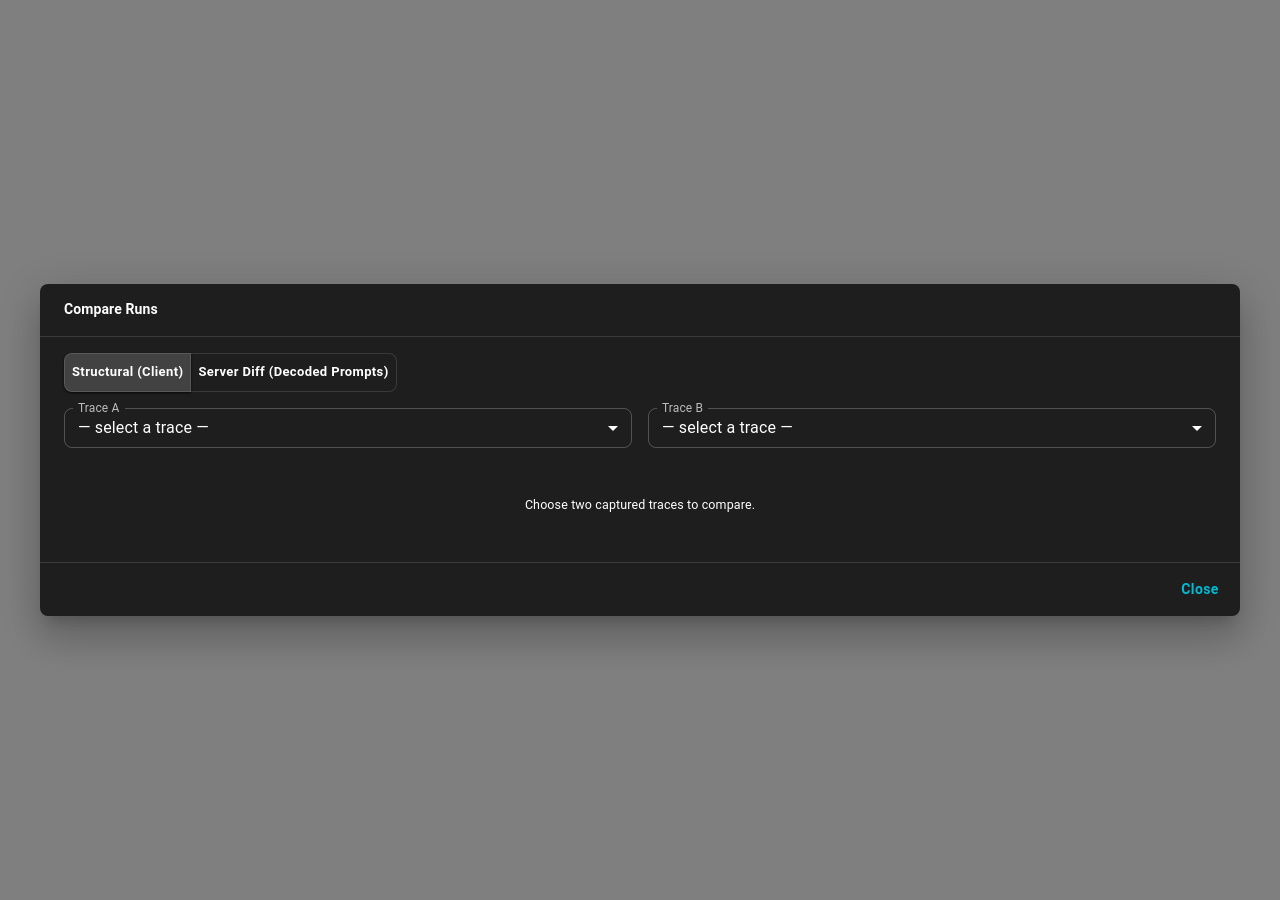
Test: CompareRunsDialog › computes and renders the server-side decoded-prompt diff
// Select the same captured trace for A and B.
Select "Unscoped (1 requests)" in the dropdown labelled "Trace A": {"x": 348, "y": 428} [64, 408, 632, 448]
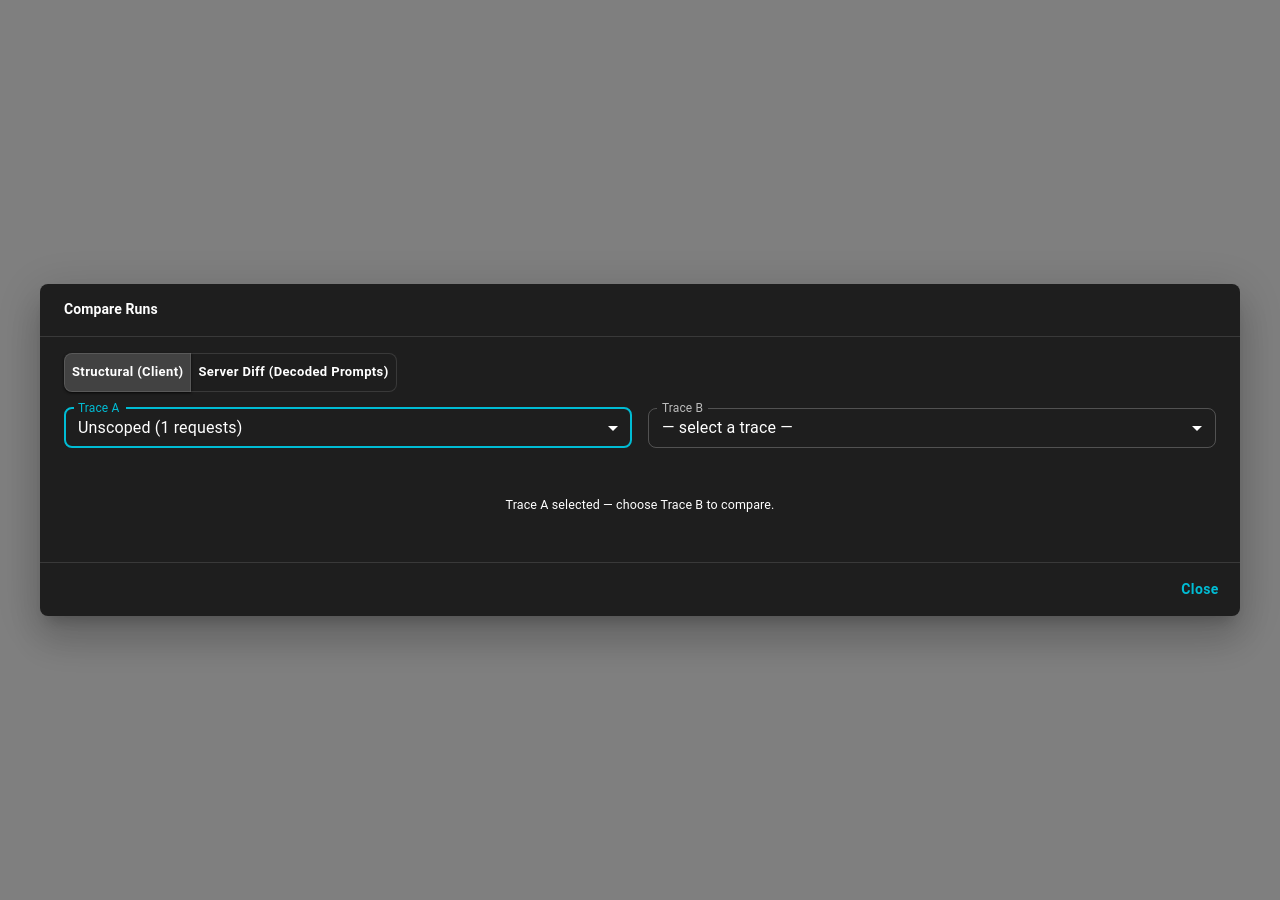
Select "Unscoped (1 requests)" in the dropdown labelled "Trace B": {"x": 932, "y": 428} [648, 408, 1216, 448]
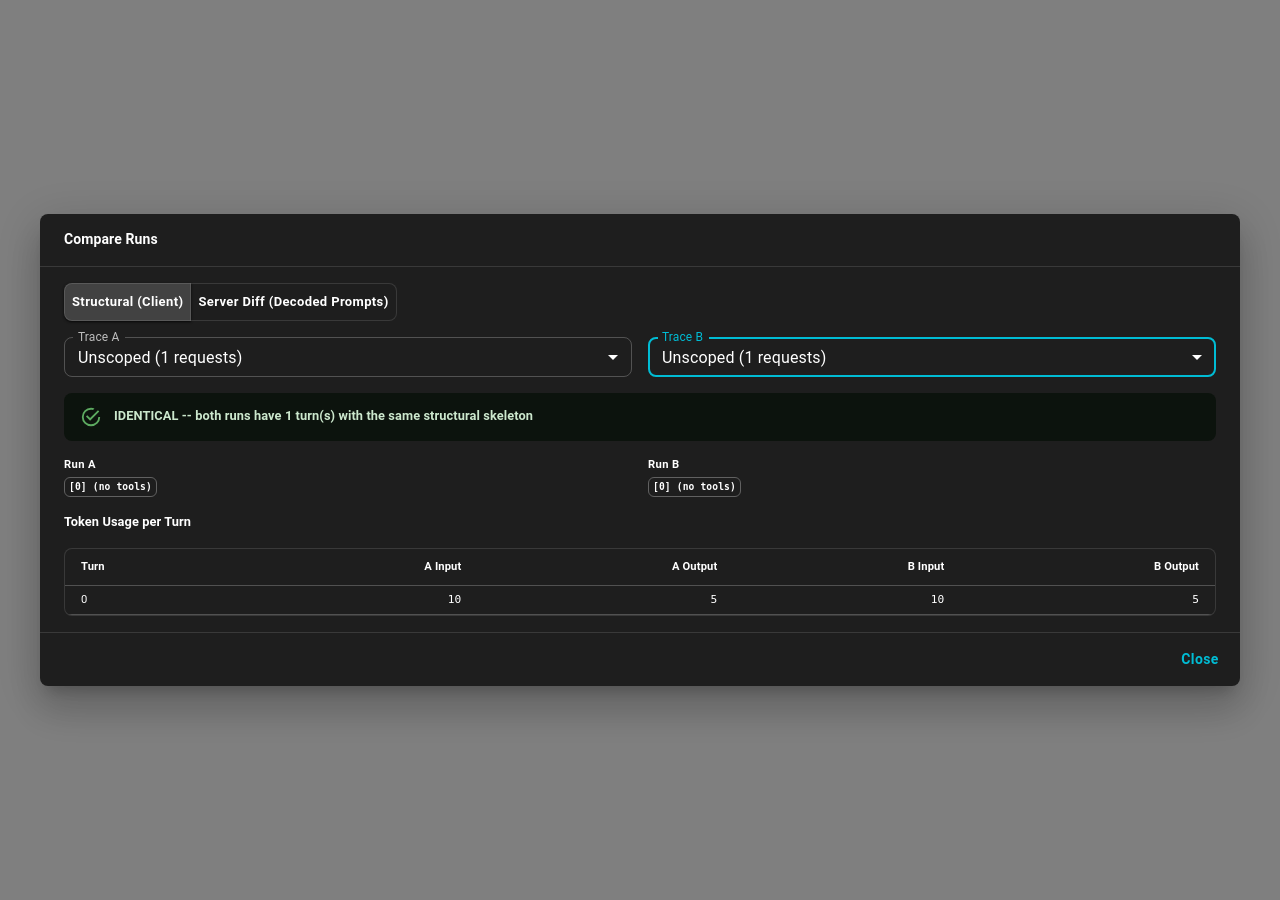
// Switch to server-diff mode and compute.
Click the button "Server Diff (Decoded Prompts)": {"x": 294, "y": 302} [190, 283, 397, 322]
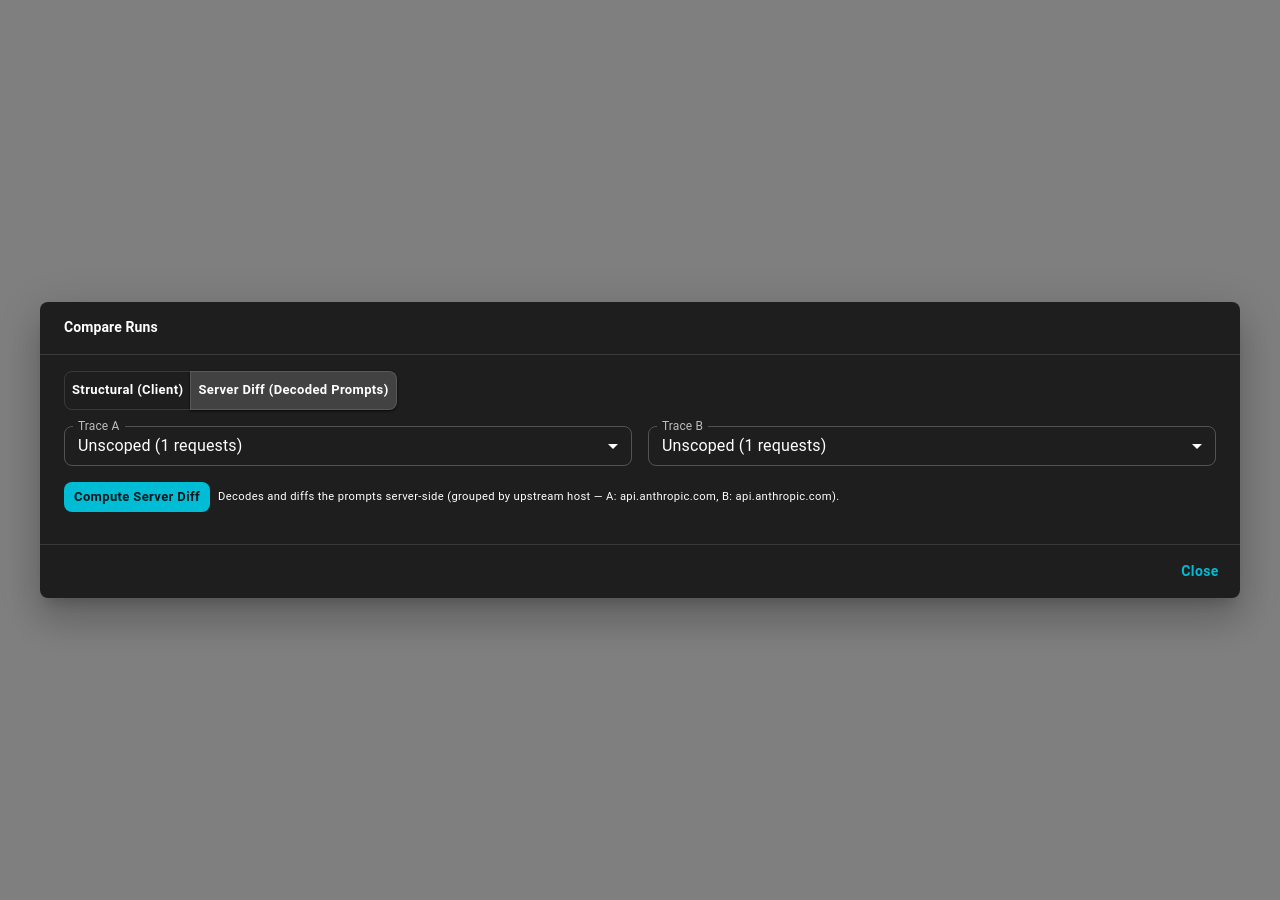
Click the button "Compute Server Diff": {"x": 137, "y": 497} [64, 482, 210, 512]
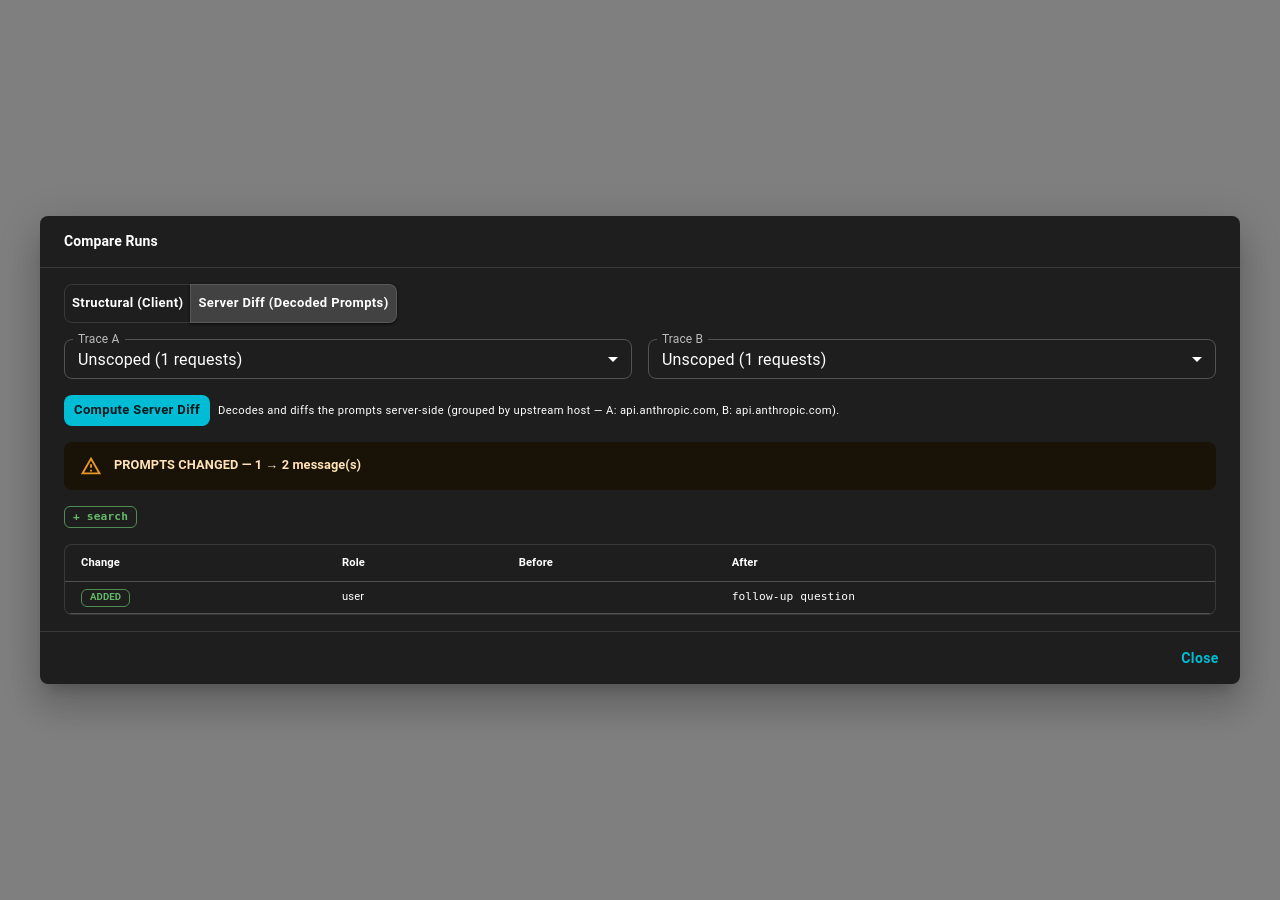
Expected: the heading "PROMPTS CHANGED — 1 → 2 message(s)" is shown, [114, 456, 361, 474]
Expected: the text "follow-up question" is shown, [716, 581, 1215, 613]
Expected: the text "+ search" is shown, [73, 510, 128, 522]
